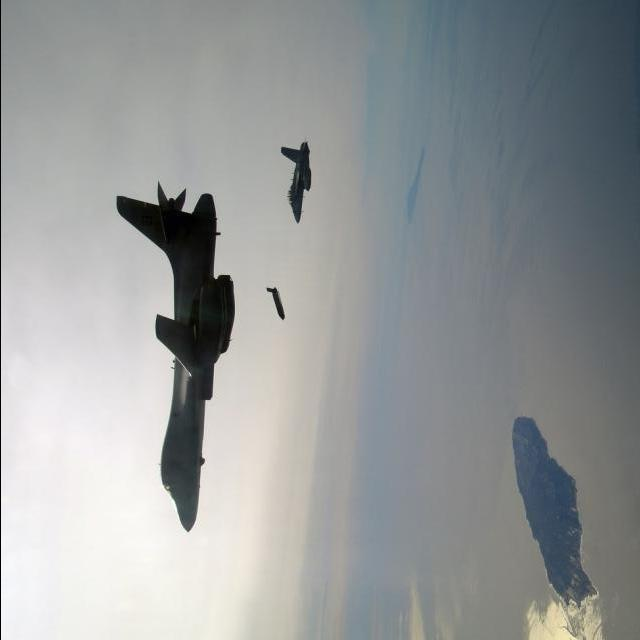Missile: (255, 284, 293, 326)
